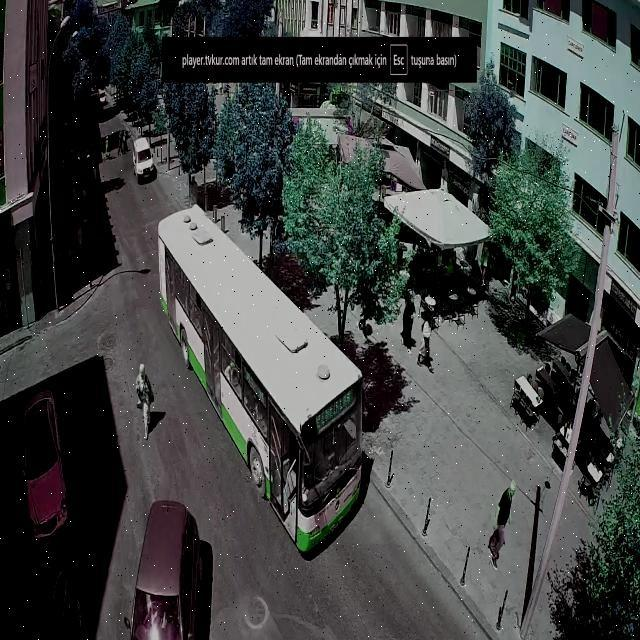Bus: (149, 210, 376, 558)
Car: (1, 395, 76, 555), (126, 490, 203, 640)
Van: (121, 131, 163, 187)
